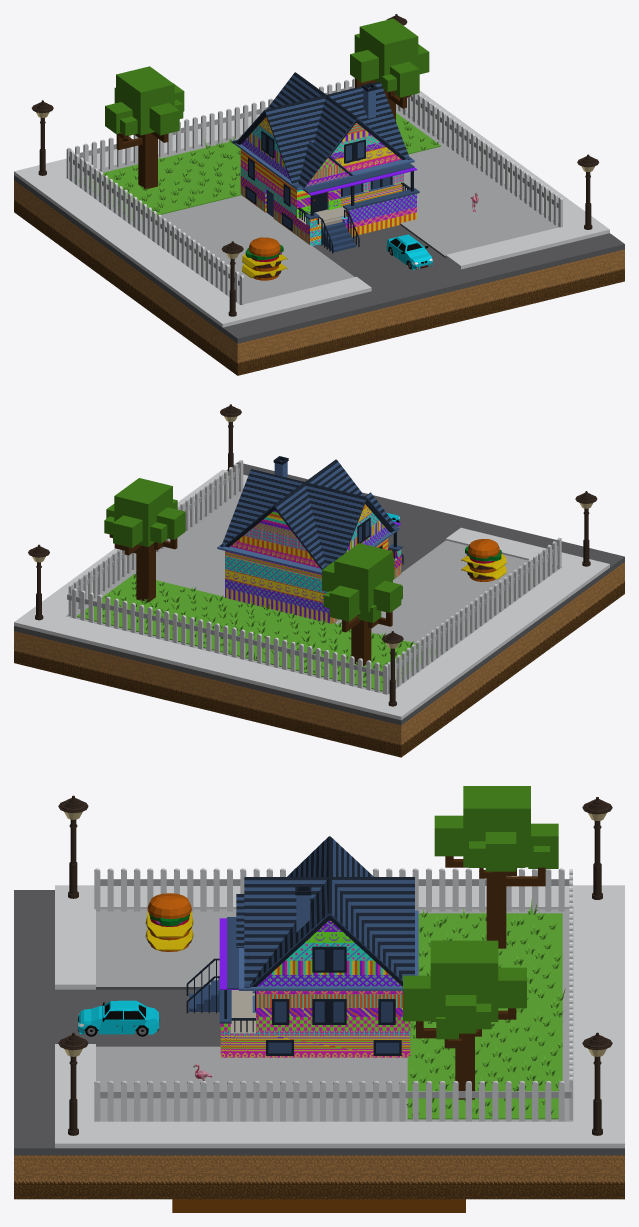
3 views of the same model, one above another, from view 1: azimuth 30°, elevation 25°; view 2: azimuth 150°, elevation 25°; view 3: azimuth 270°, elevation 25° (orthographic). The views are drawn at different scales.
Visible parts, largest first — view 1: Cube.004, Cube.676, OBJRANDOM_HAMBURGER, VEHICLES_CAR; view 2: Cube.004, Cube.676, OBJRANDOM_HAMBURGER; view 3: Cube.004, Cube.676, UNDERGROUND_ART_PIECE_VAN_GOGH, VEHICLES_CAR, OBJRANDOM_HAMBURGER.
Boxes of the visible parts, bbox=[...] form: Cube.004: bbox=[14, 14, 624, 375]; Cube.676: bbox=[232, 72, 419, 253]; OBJRANDOM_HAMBURGER: bbox=[242, 237, 287, 280]; VEHICLES_CAR: bbox=[386, 234, 432, 269]; Cube.004: bbox=[14, 404, 624, 757]; Cube.676: bbox=[217, 456, 403, 623]; OBJRANDOM_HAMBURGER: bbox=[461, 539, 506, 581]; Cube.004: bbox=[14, 786, 624, 1199]; Cube.676: bbox=[186, 836, 418, 1057]; UNDERGROUND_ART_PIECE_VAN_GOGH: bbox=[172, 1199, 465, 1212]; VEHICLES_CAR: bbox=[77, 1000, 160, 1036]; OBJRANDOM_HAMBURGER: bbox=[145, 893, 193, 951].
Size of the model in its own units: 4000 by 1726 by 4000.
Materials: 41 (8 with a texture image).
